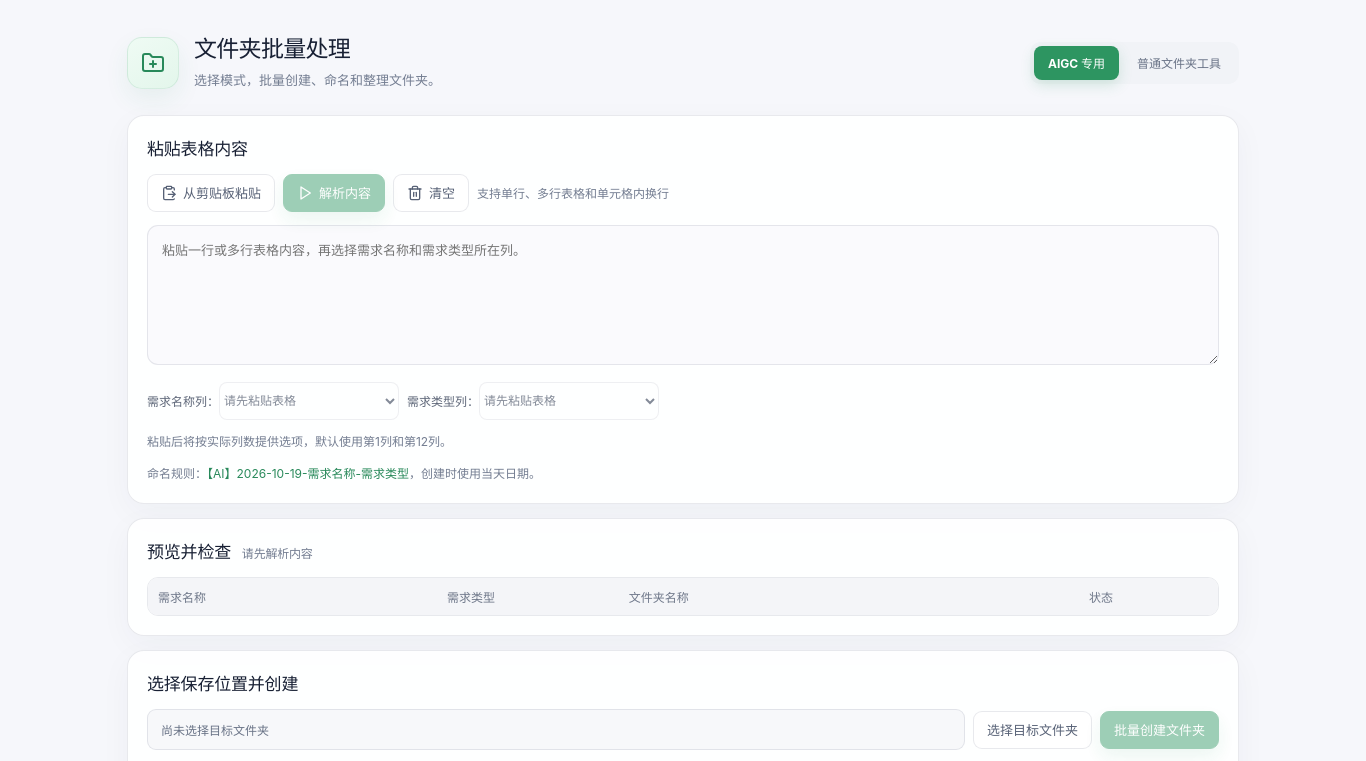
it: AIGC folder requests › removes module numbering in both modes and keeps ordinary folder naming
Click the tab "普通文件夹工具".
click(1179, 63)  # box [1123,46,1235,80]
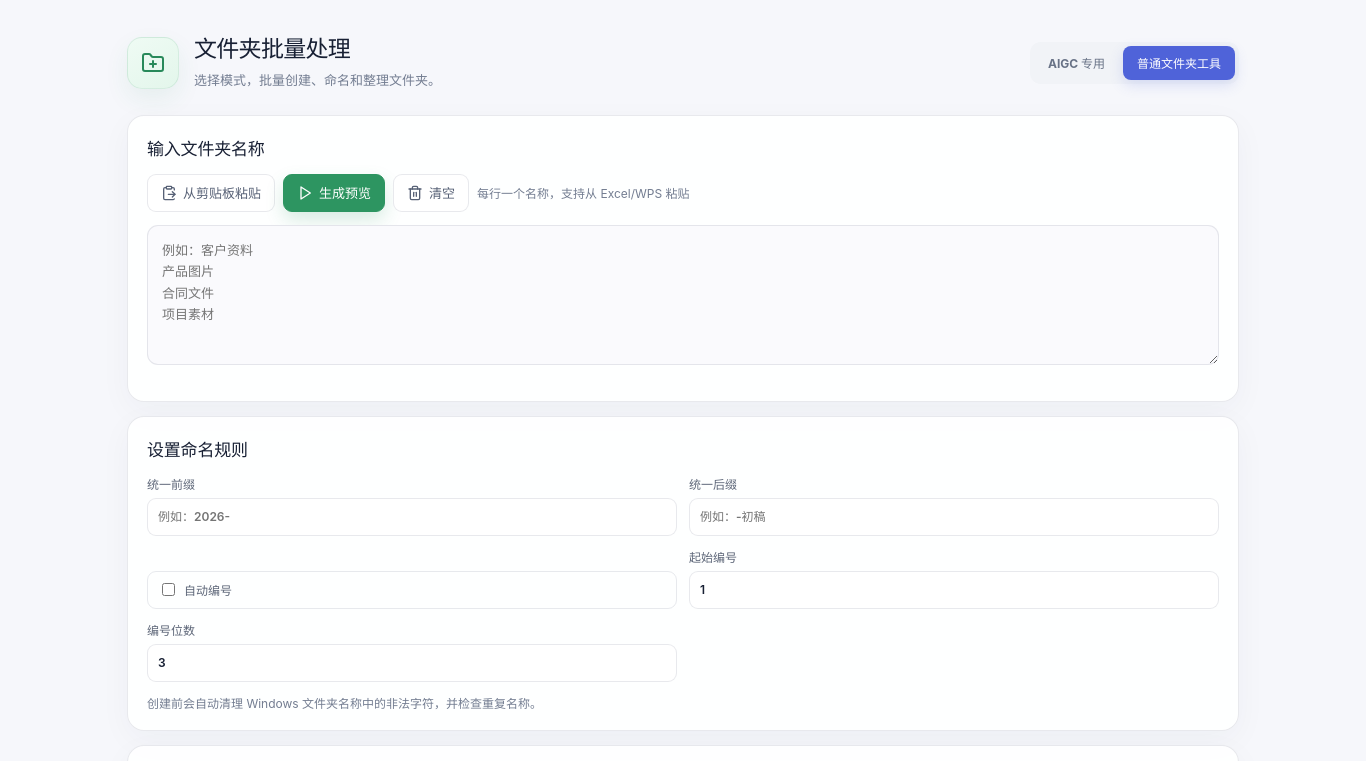
Type "客户资料" into the text box with placeholder "例如：客户资料 产品图片 合同文件 项目素材".
click(683, 295); type("客户资料")  # box [147,225,1219,365]
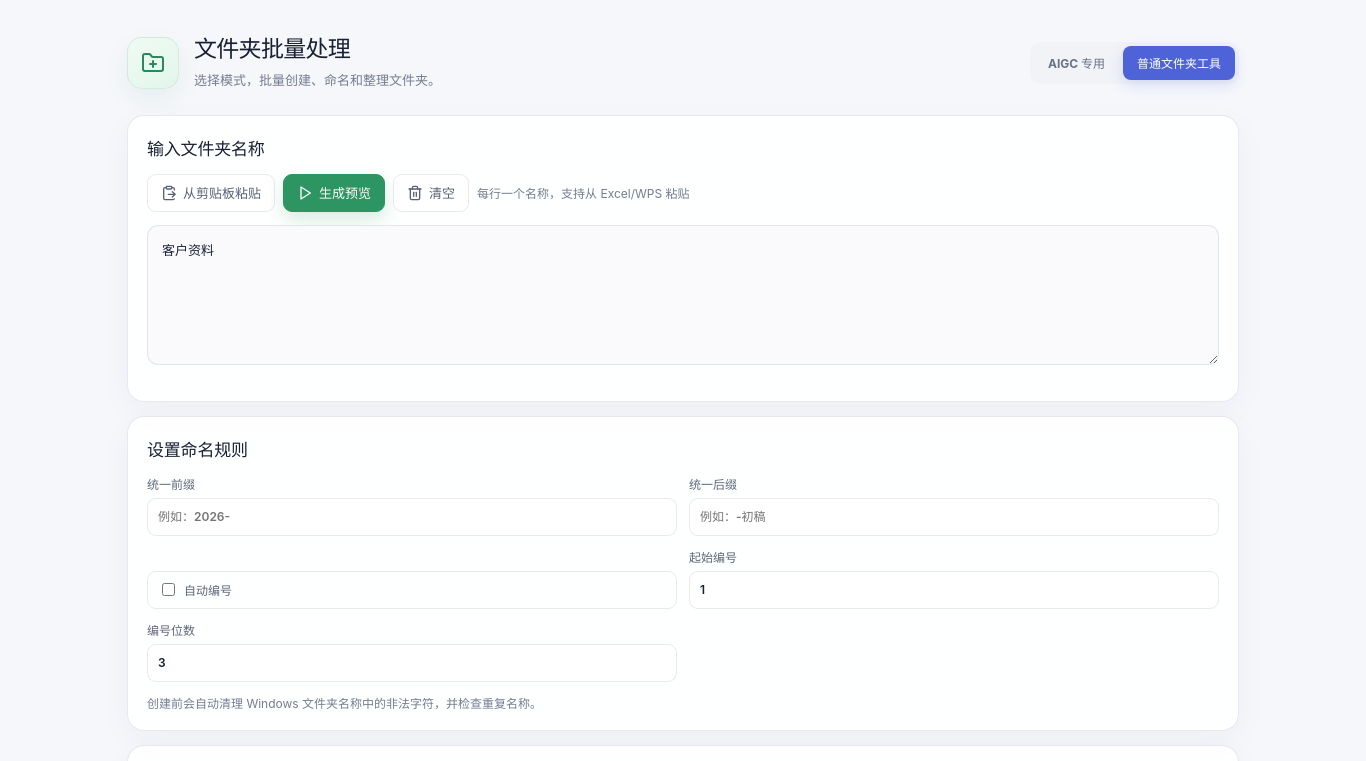
Click the button "生成预览".
click(334, 193)  # box [283,174,385,212]
(page scrolled)
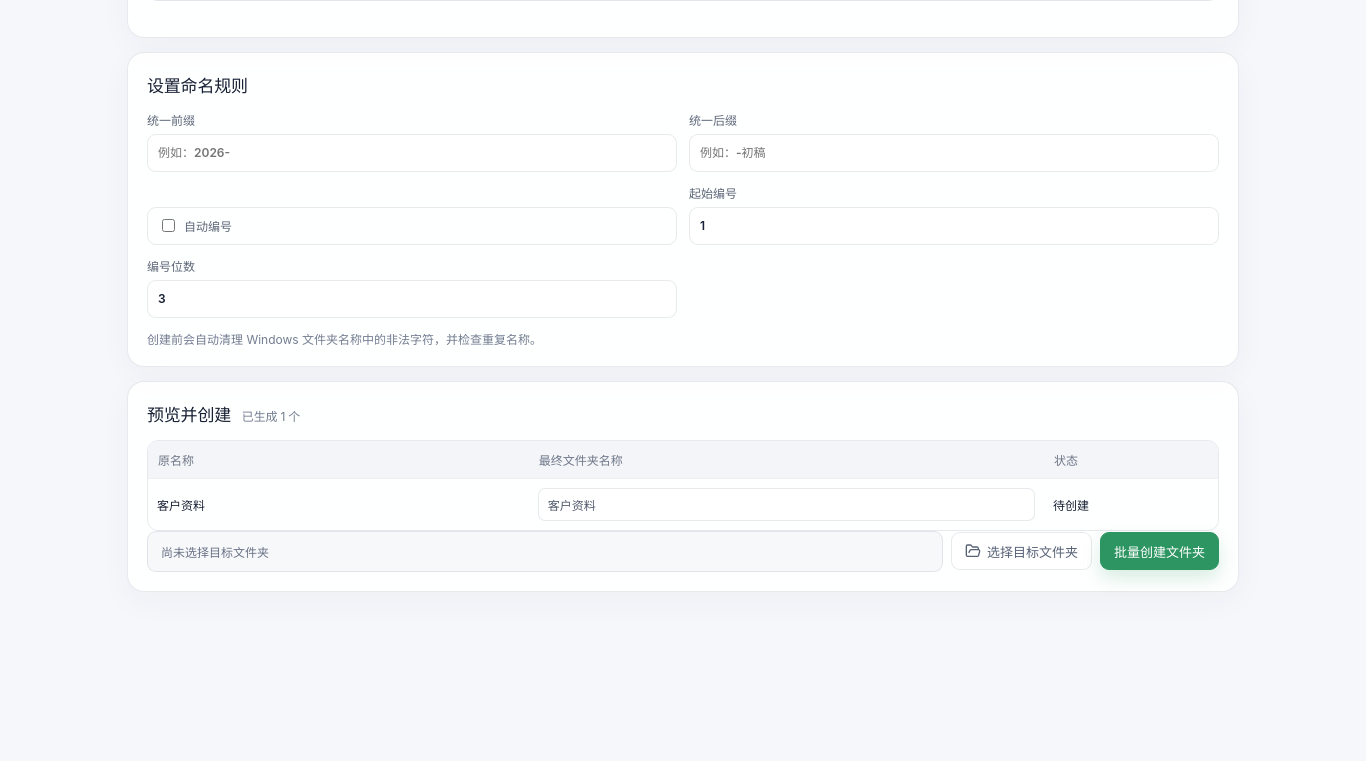
Result: the 3rd field holds "客户资料" at [538,488,1035,521]
